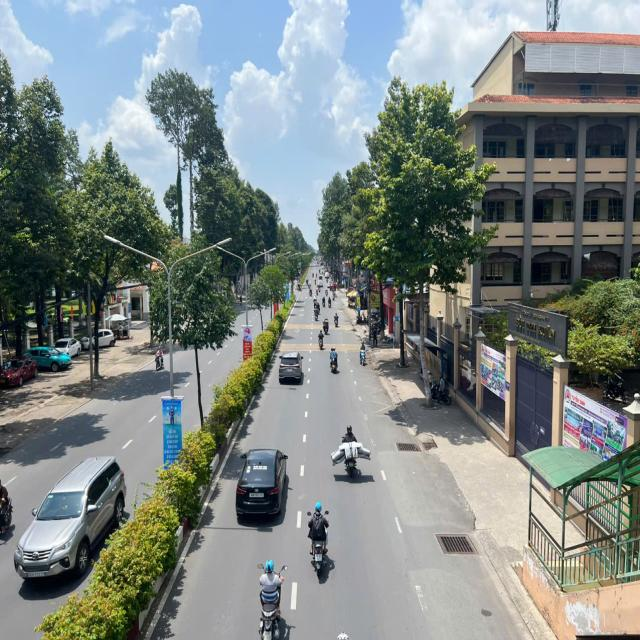car: (14, 456, 126, 579), (236, 447, 289, 525), (279, 353, 302, 385), (330, 284, 337, 291), (318, 281, 324, 287), (327, 281, 333, 287), (325, 273, 329, 278)
motobyte: (260, 564, 286, 640), (306, 497, 328, 578), (346, 425, 358, 481), (330, 348, 337, 373), (360, 344, 365, 367), (317, 329, 322, 351), (322, 318, 328, 334), (335, 313, 339, 327), (314, 310, 318, 320), (322, 297, 325, 307), (328, 298, 331, 307), (309, 289, 312, 296), (314, 299, 316, 308), (317, 305, 319, 313), (326, 288, 328, 296), (316, 288, 318, 295), (309, 282, 311, 289), (319, 286, 321, 292), (306, 280, 308, 286), (314, 280, 316, 286), (312, 273, 314, 278), (316, 273, 318, 278), (333, 292, 334, 300)
